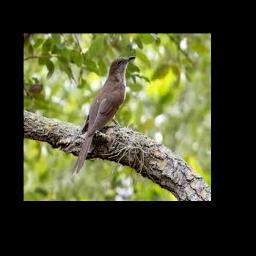Cuckoo: (70, 56, 136, 177)
